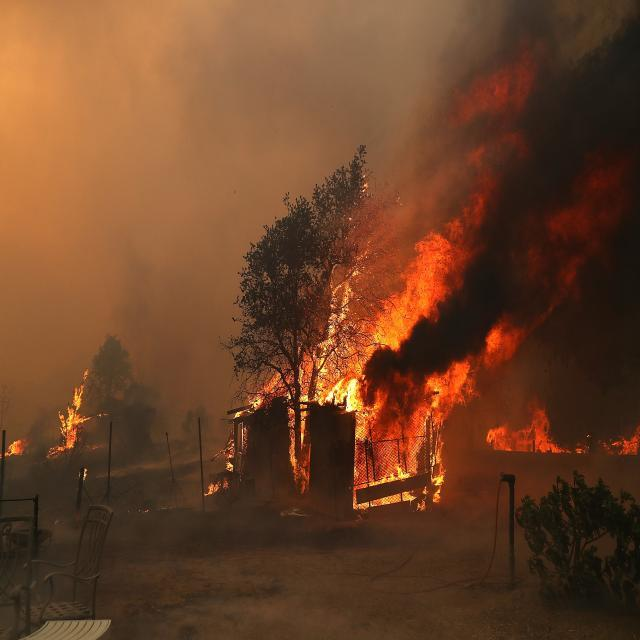Smoke: (4, 0, 503, 476)
